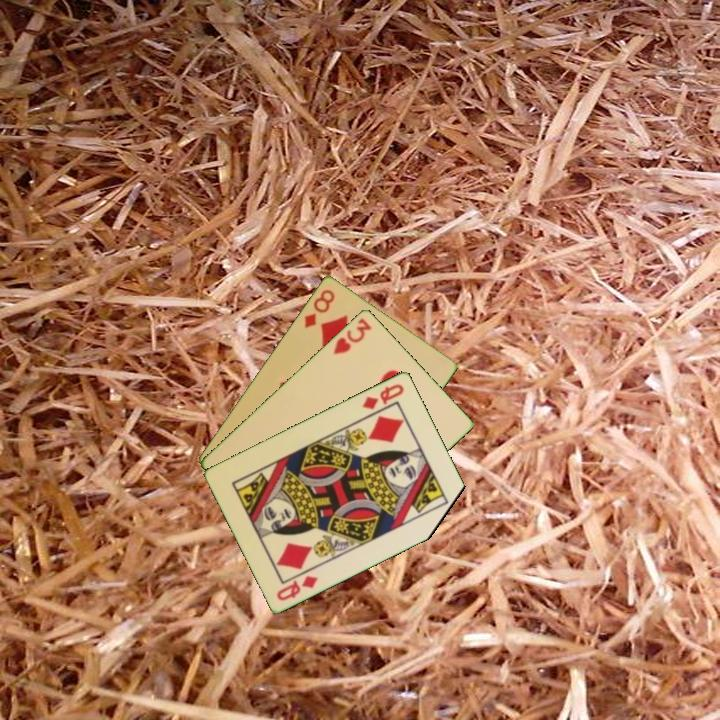3h: (329, 314, 375, 357)
8d: (300, 285, 338, 331)
Qd: (359, 380, 407, 412), (273, 572, 321, 604)
